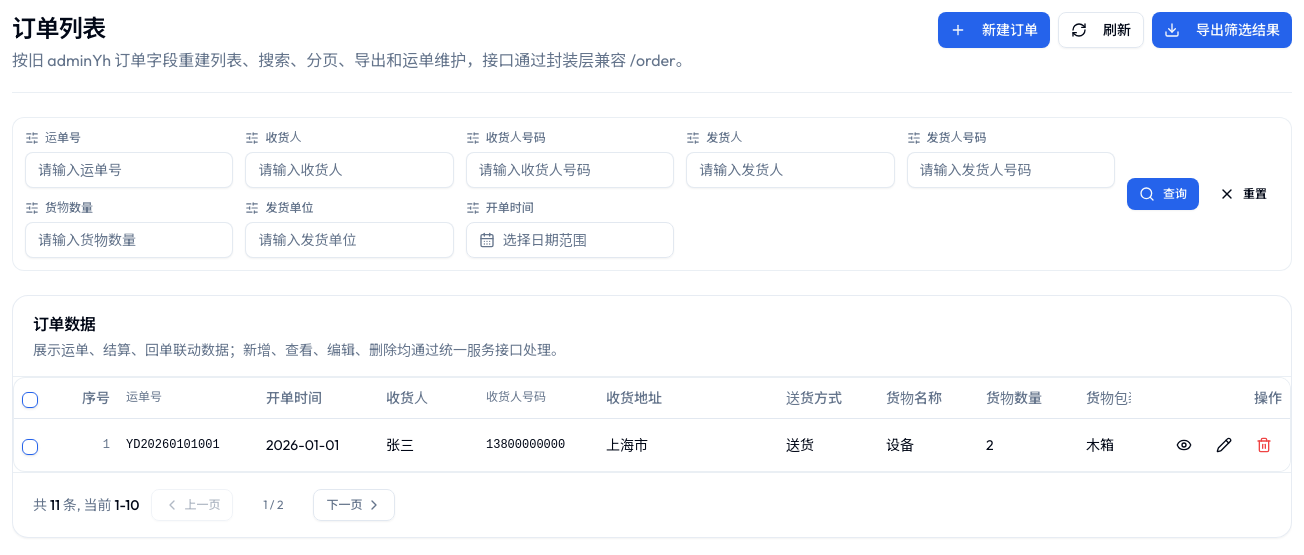
Test: OrdersList › keeps filtered export disabled while the export action is pending
Expected: the text "YD20260101001" is shown, [118, 418, 258, 470]
Click the button "导出筛选结果".
click(1222, 30)  # box [1152, 12, 1292, 48]
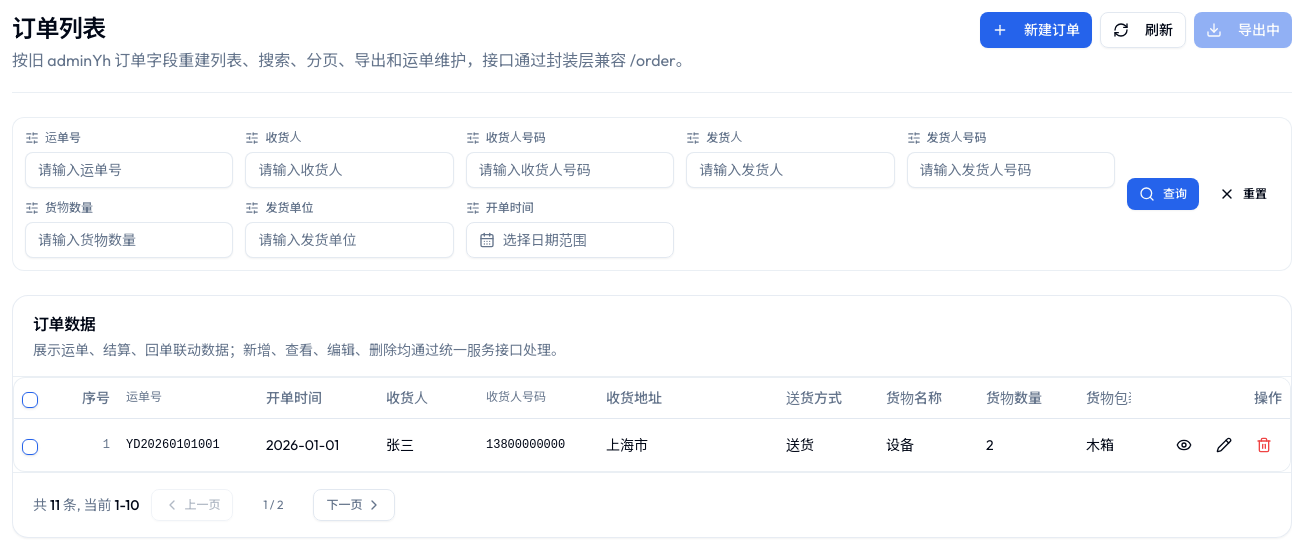
Result: the button "导出中" is disabled at [1194, 12, 1292, 48]
